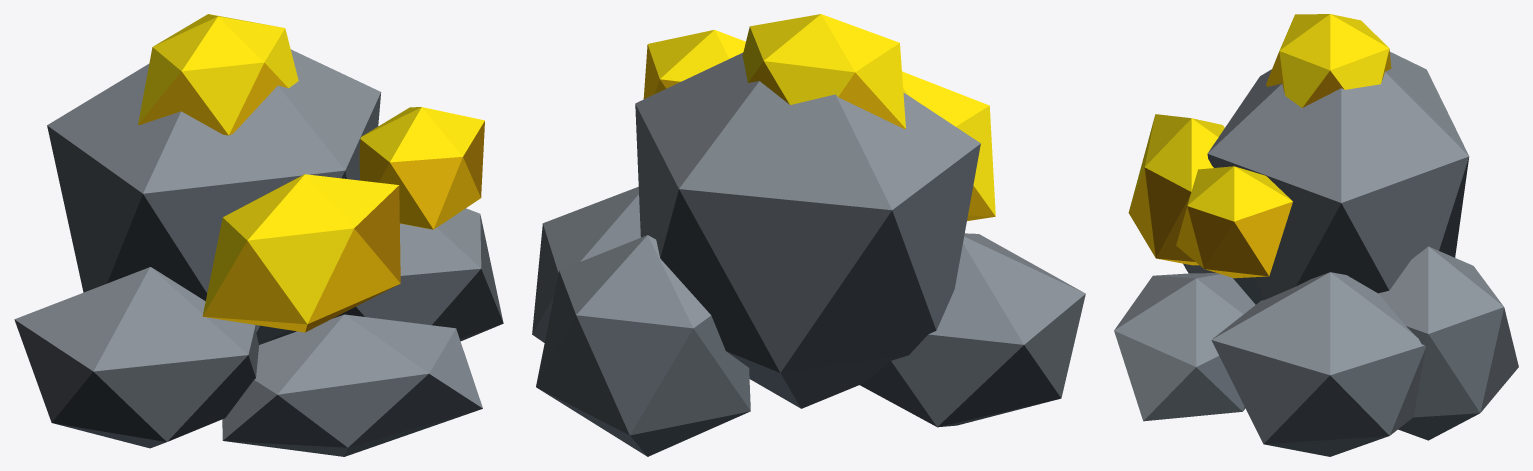
The model's file is node-sulfur-lod1.glb.
3 views of the same model, side by side, from view 1: azimuth 30°, elevation 25°; view 2: azimuth 150°, elevation 25°; view 3: azimuth 270°, elevation 25° (orthographic). The views are drawn at different scales.
Parts seen in each view (by area): view 1: node-sulfur-stone, node-sulfur-mineral; view 2: node-sulfur-stone, node-sulfur-mineral; view 3: node-sulfur-stone, node-sulfur-mineral.
Part boxes in pixels (left/top/right/bottom): node-sulfur-stone: left=14, top=49, right=503, bottom=456; node-sulfur-mineral: left=138, top=14, right=484, bottom=332; node-sulfur-stone: left=532, top=52, right=1085, bottom=456; node-sulfur-mineral: left=643, top=14, right=995, bottom=220; node-sulfur-stone: left=1114, top=52, right=1518, bottom=456; node-sulfur-mineral: left=1128, top=14, right=1391, bottom=278.
Size of the model in its own units: 2.21 by 1.86 by 1.81.
